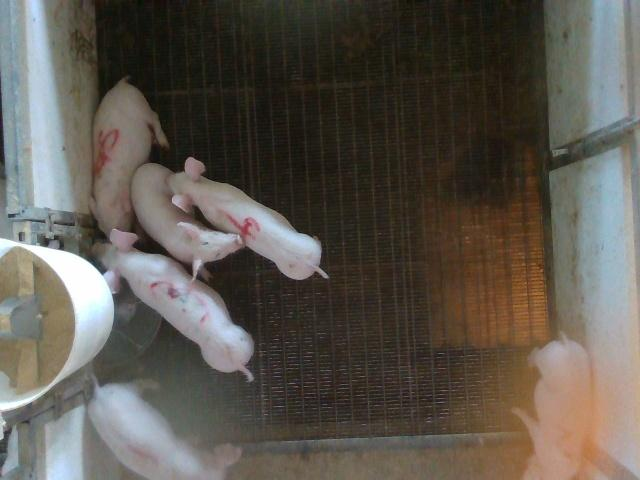pig-1: (88, 384, 208, 479)
pig-2: (512, 336, 592, 478)
pig-3: (92, 229, 254, 380)
pig-4: (170, 158, 329, 279)
pig-5: (90, 78, 169, 236)
